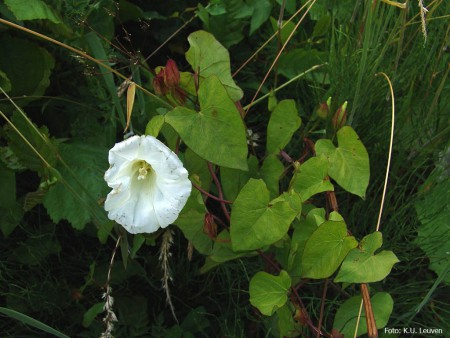haagwinde: (100, 22, 402, 336)
